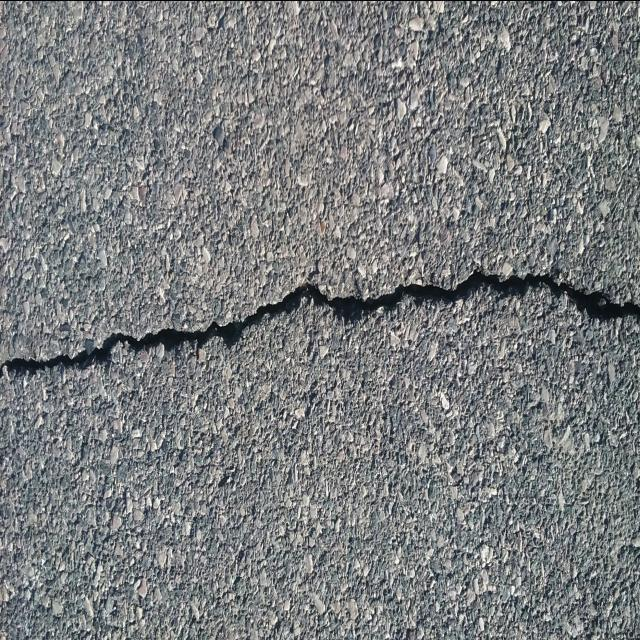Crack: (0, 259, 640, 380)
